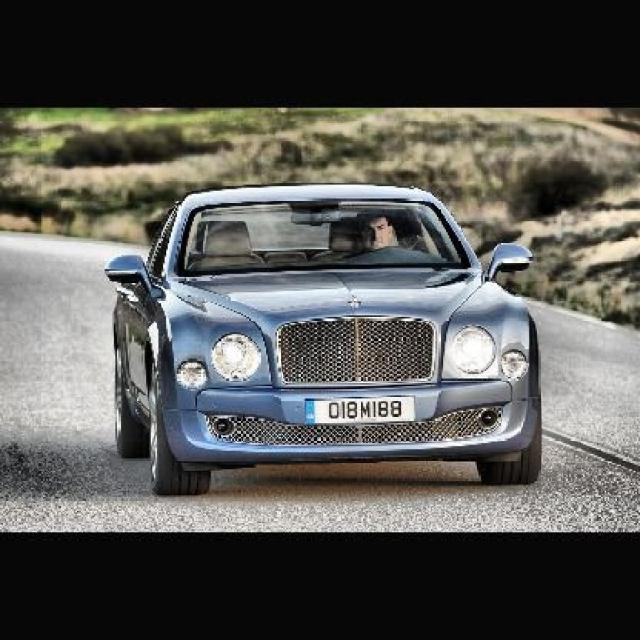blue: (135, 160, 558, 480)
